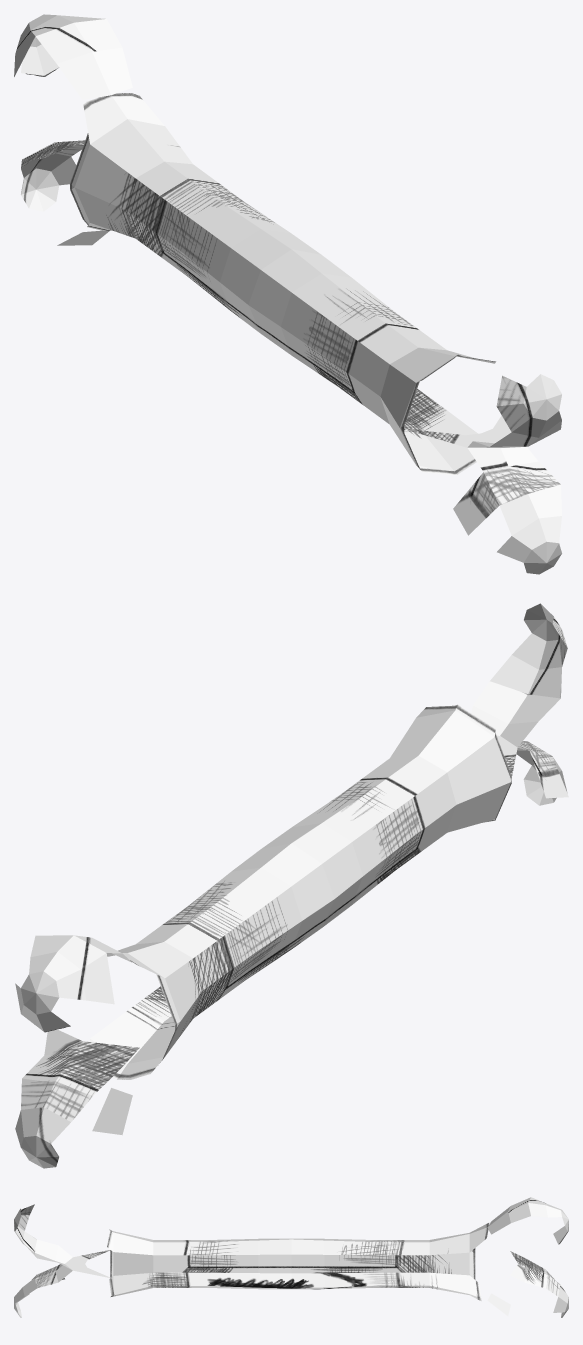
The model's file is Bone_for_Dog.fbx.
3 views of the same model, one above another, from view 1: azimuth 30°, elevation 25°; view 2: azimuth 150°, elevation 25°; view 3: azimuth 270°, elevation 25° (orthographic). The views are drawn at different scales.
Visible parts, largest first — view 1: BONE; view 2: BONE; view 3: BONE.
Part boxes in pixels (bbox=[...]): BONE: bbox=[14, 14, 561, 574]; BONE: bbox=[15, 603, 568, 1168]; BONE: bbox=[14, 1197, 568, 1317].
Bounding box in the file's own units: 268 × 507 × 2047.
1 material, 1 textured.
